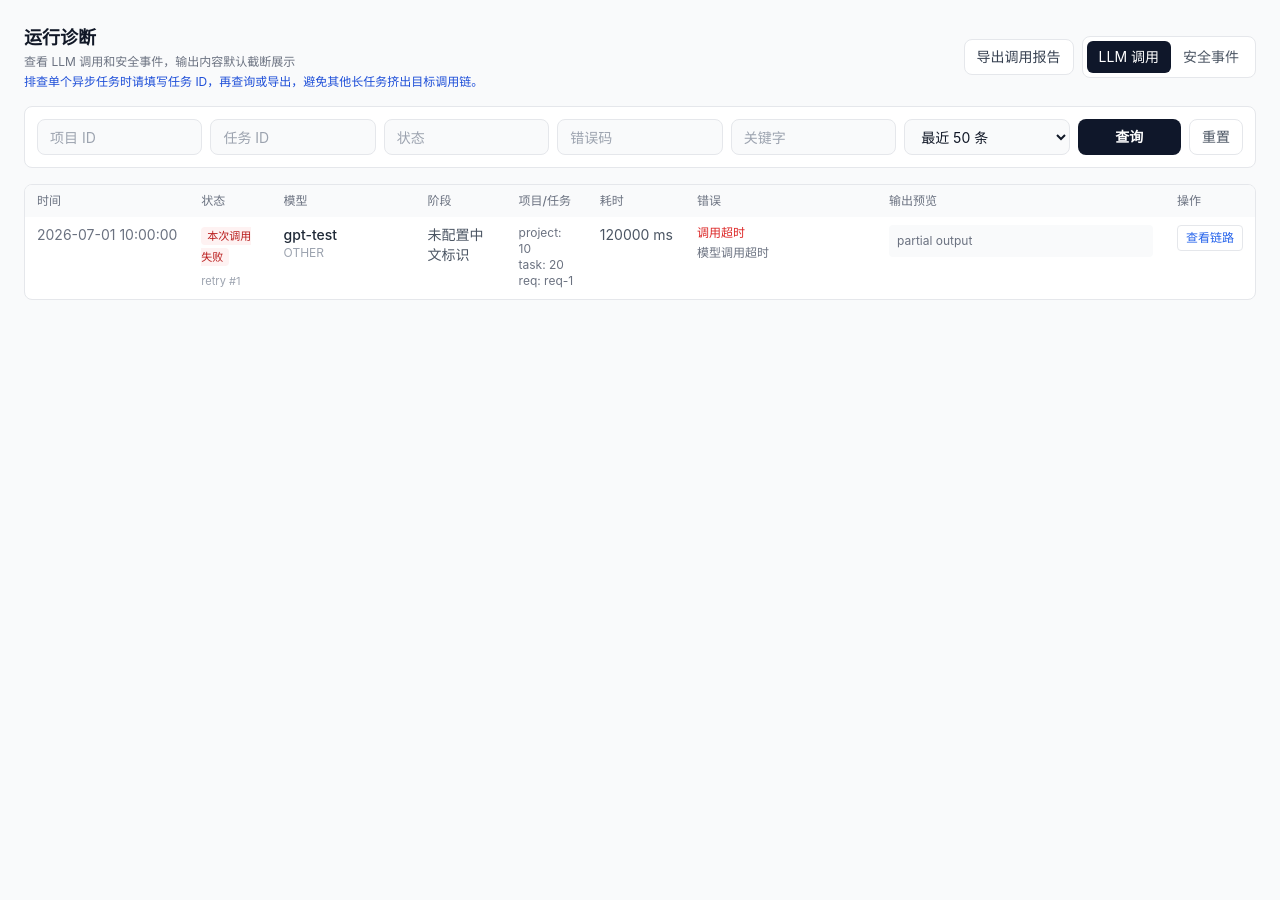
RuntimeDiagnostics › opens llm invocation chain drawer from a log row
Expected: the text "gpt-test" is shown, [284, 226, 337, 243]
Click the button "查看链路".
click(1210, 238)  # box [1177, 225, 1243, 251]
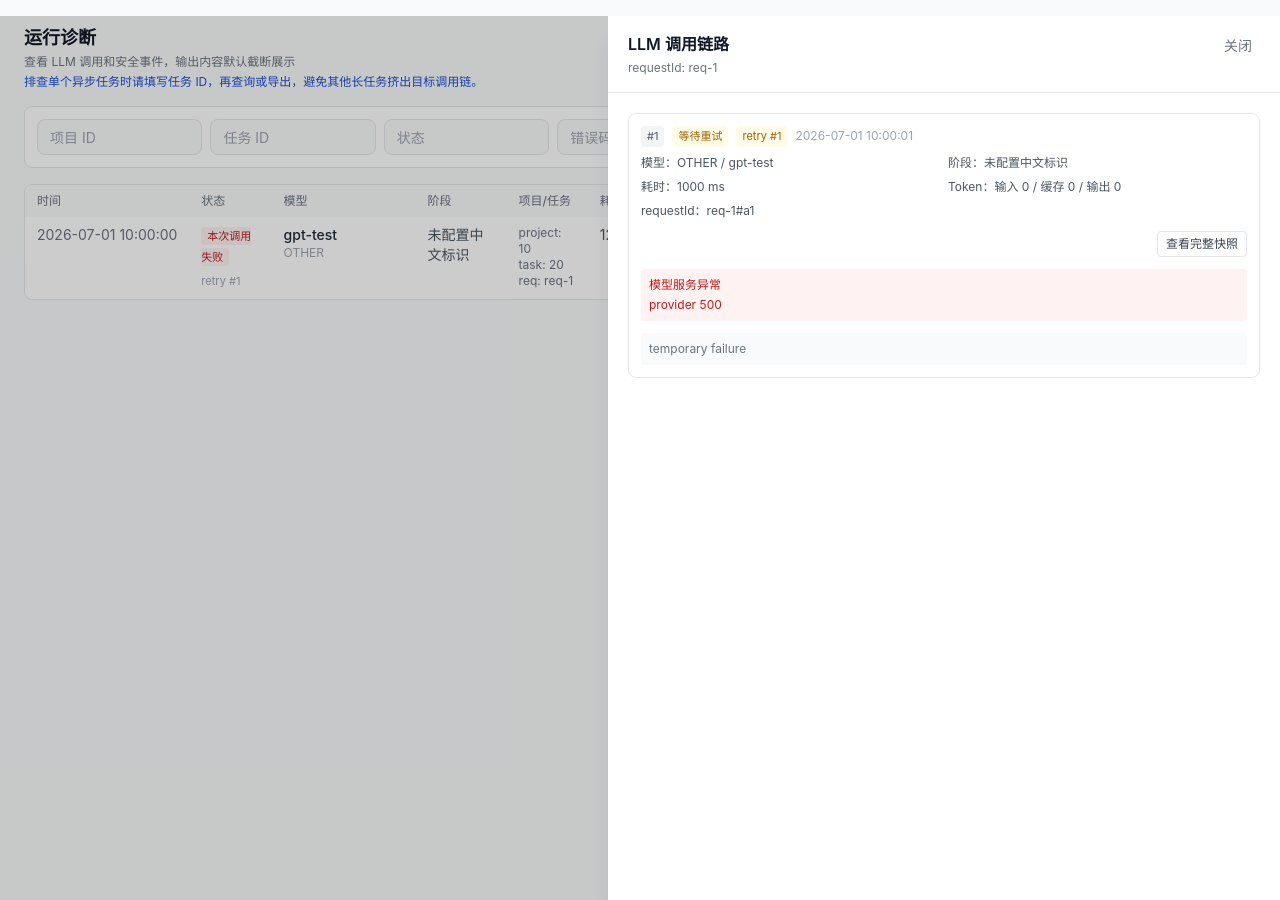
Now the heading "LLM 调用链路" is shown, box [628, 32, 729, 56]
Now the text "等待重试" is shown, box [672, 126, 728, 146]
Now the text "temporary failure" is shown, box [641, 332, 1247, 364]
